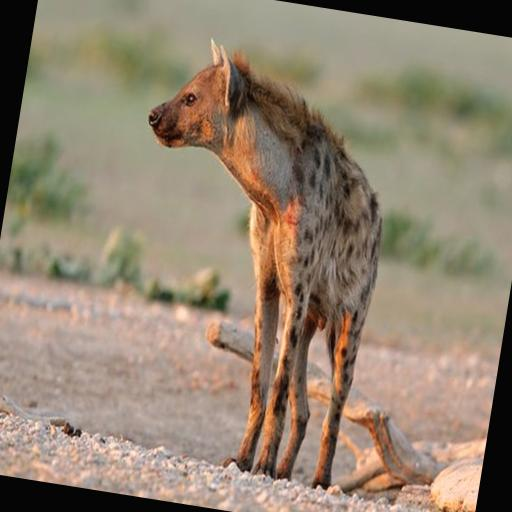hyenas: (91, 0, 455, 499)
